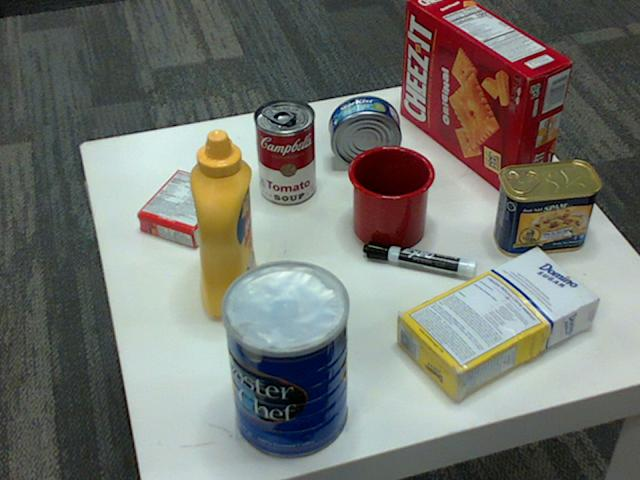cracker_box: (400, 0, 571, 196)
gelatin_box: (135, 167, 232, 245)
large_marker: (364, 241, 477, 282)
master_chef_can: (219, 263, 347, 461)
mug: (345, 144, 433, 249)
mustard_bottle: (187, 130, 257, 317)
potted_meat_can: (492, 161, 599, 257)
sugar_box: (393, 246, 597, 402)
tomato_soup_can: (253, 99, 314, 205)
tuna_fish_can: (327, 95, 400, 169)
